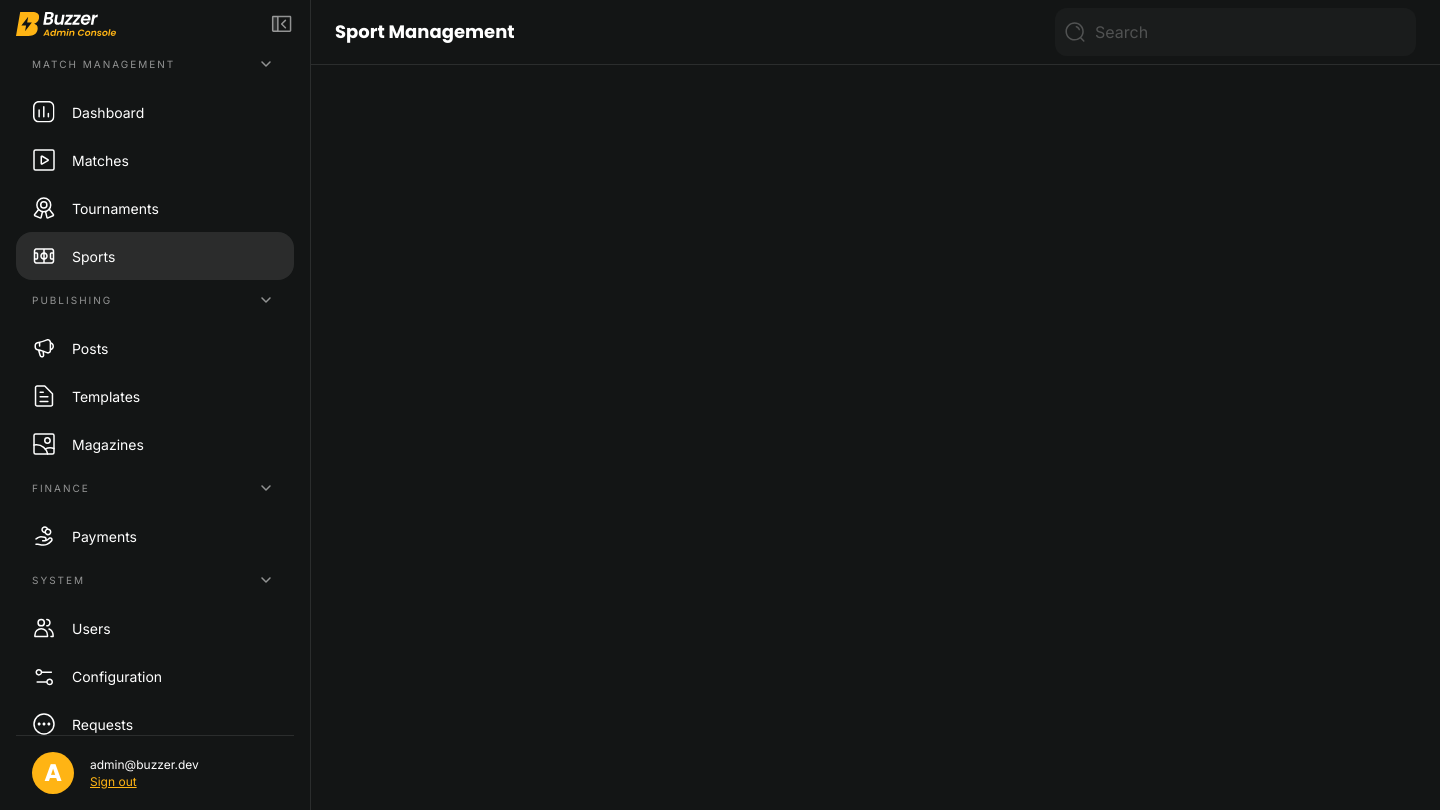
it: ShellComponent › collapses the sidebar
Click the button with class "sidebar__collapse" at (282, 24), box [270,12,294,36]
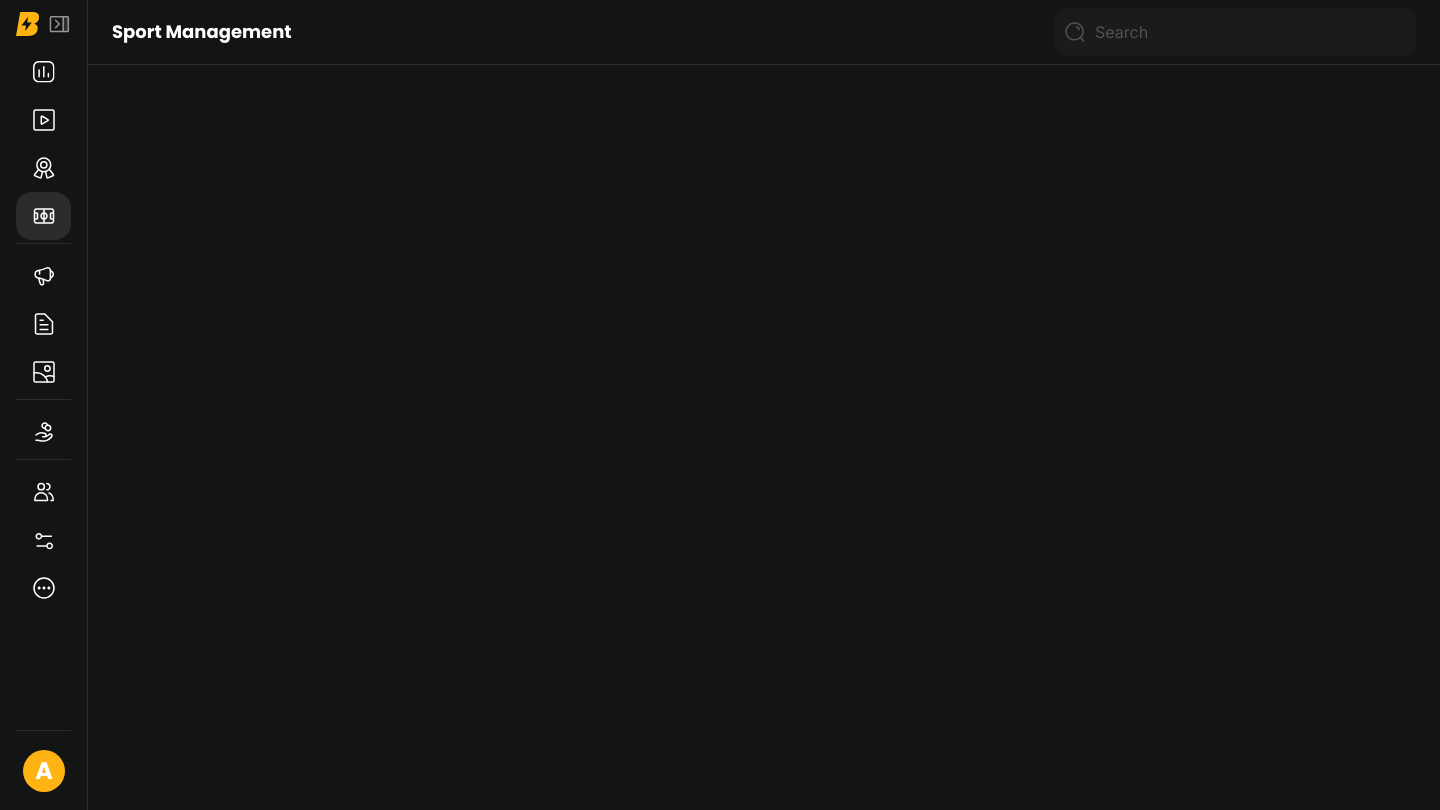
Check: the element with class "sidebar--collapsed" is shown, box [0,0,88,809]
